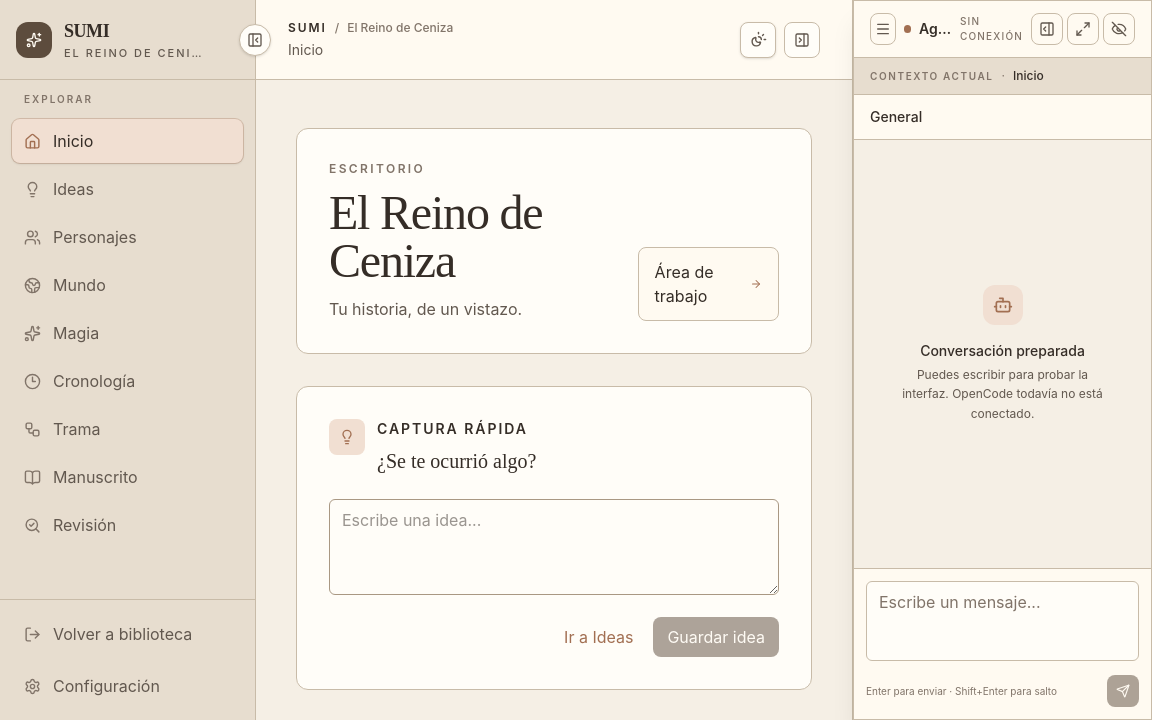
Test case: SUMI shell › returns from a scene to the workspace menu and closes the navigator on re-entry
The width and height of the screenshot is (1152, 720).
Step 1. Click the button "Área de trabajo" → (708, 284), box [638,247,779,321]
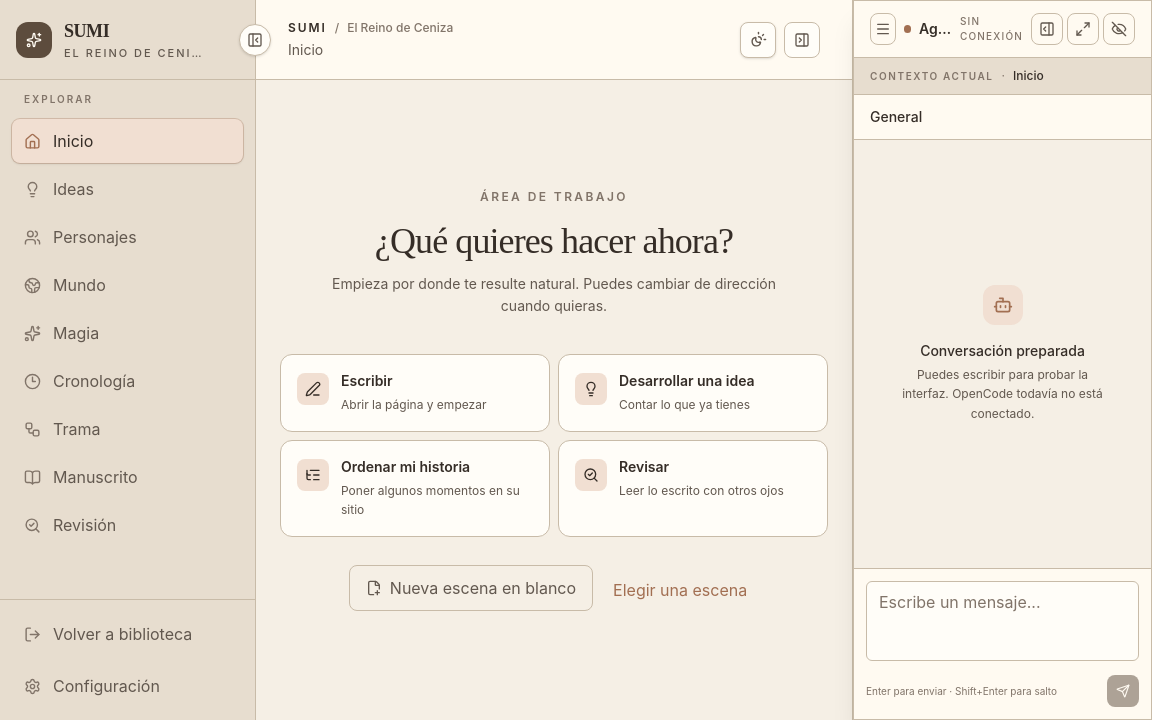
Step 2. Click the button "Nueva escena en blanco" → (471, 588), box [349,564,593,610]
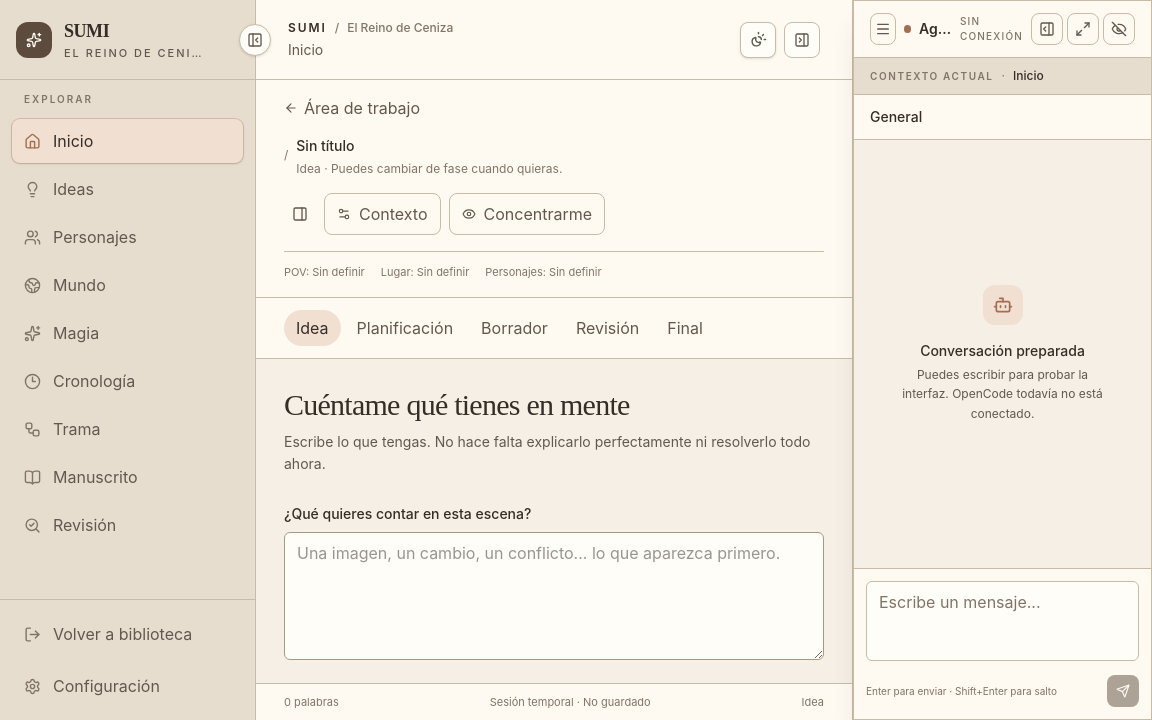
Step 3. Click the button named "Mostrar escenas" → (300, 214), box [284,198,316,230]
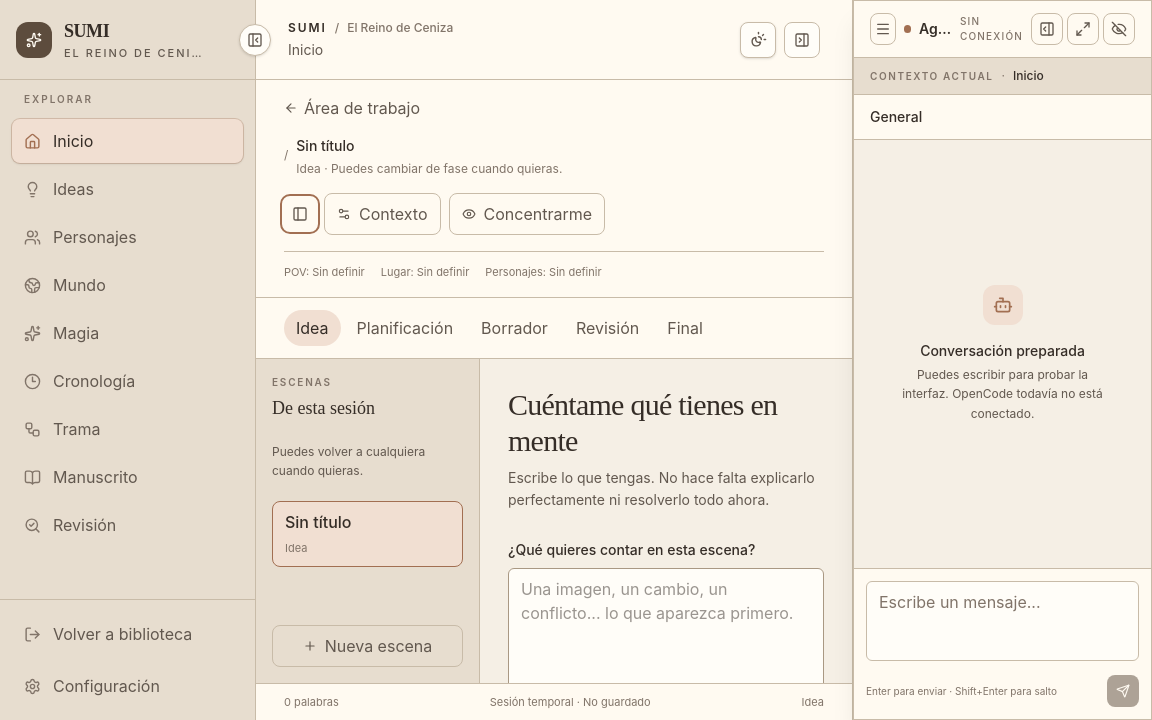
Step 4. Click the button "Área de trabajo" → (352, 108), box [284,96,420,120]
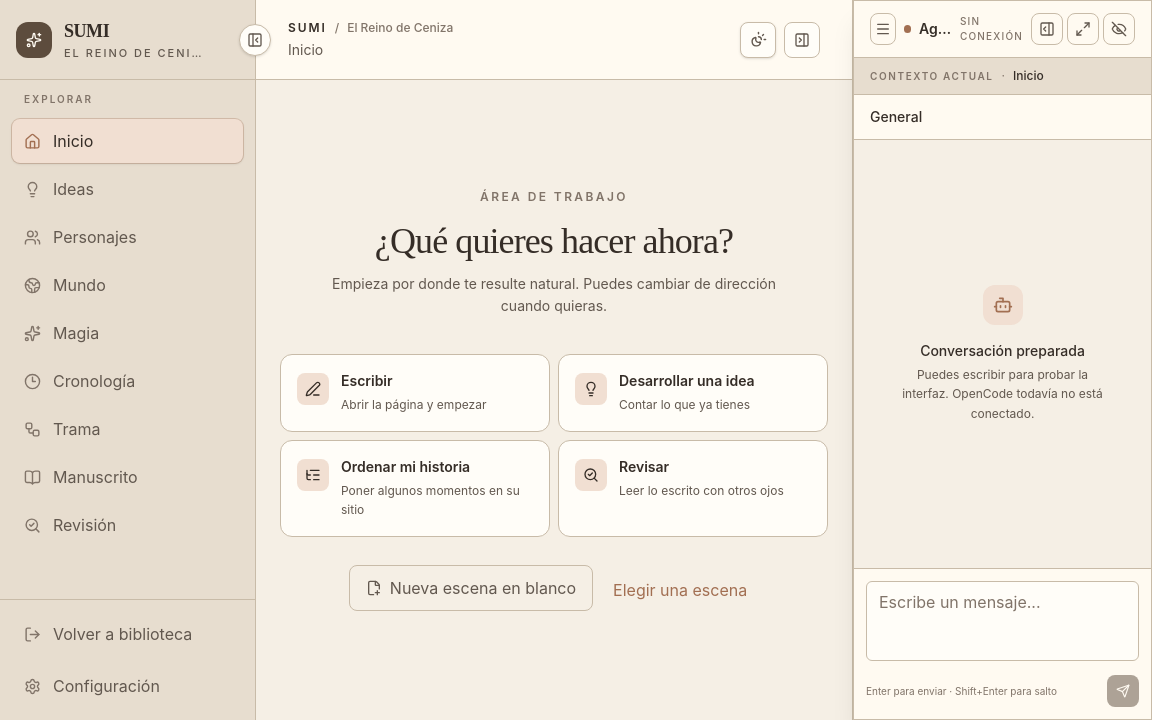
Expected: the heading "¿Qué quieres hacer ahora?" is shown, [375,220,733,260]
Step 5. Click the button "Nueva escena en blanco" → (471, 588), box [349,564,593,610]
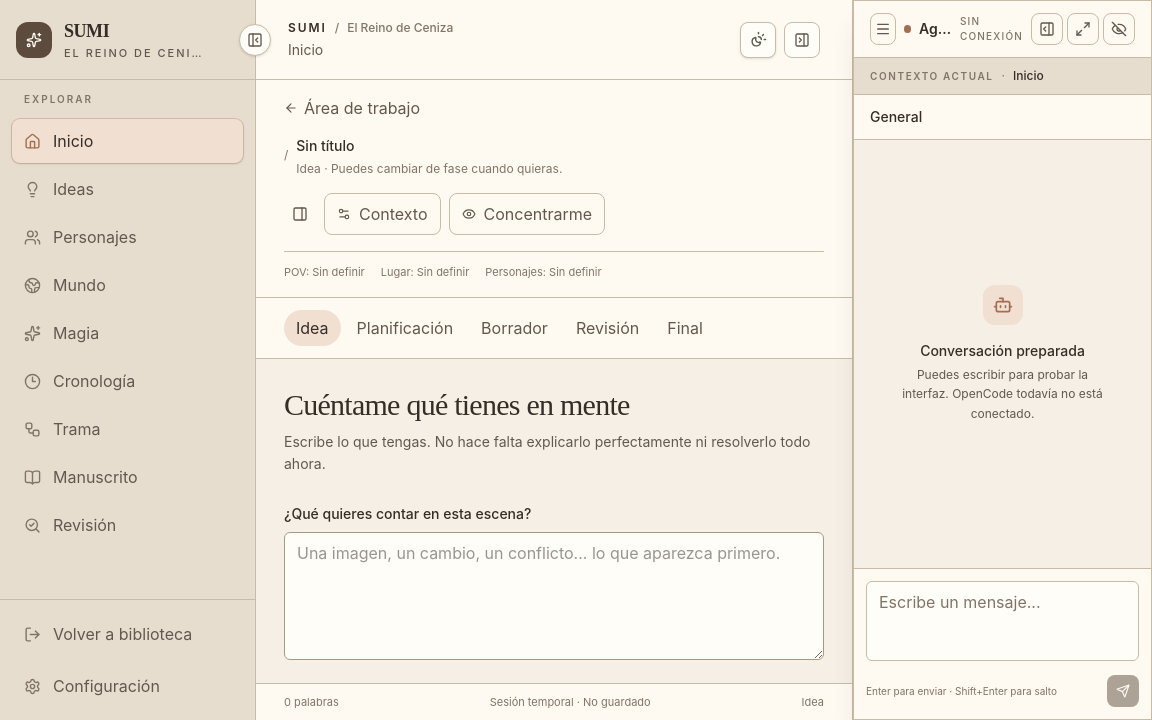
Expected: the heading "De esta sesión" is not shown
Expected: the button named "Mostrar escenas" is shown, [284,198,316,230]
